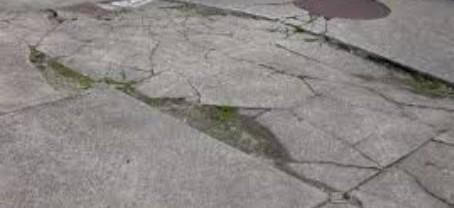alligator-crack: (25, 0, 454, 208)
